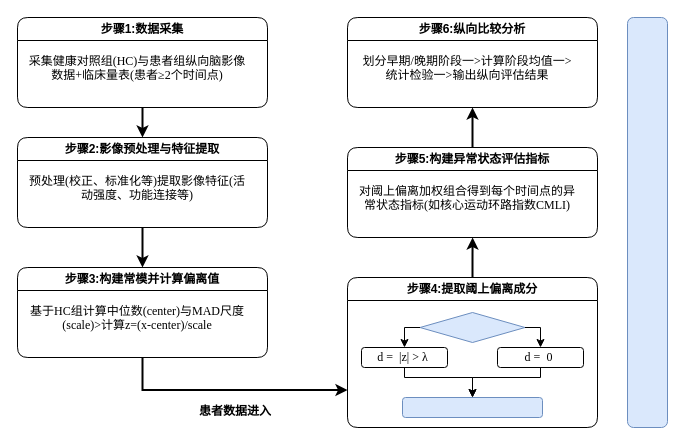
Some shapes in this 685 by 445 pixel diagram are drawn without their labels. The shapes that lost their labels are listed below. From the top down, each one's centre as x and y in pixels, then its label:
At (x=647, y=222): "创新点:区分正常波动与异常偏离，提升提升纵向评估可解释性".
At (x=472, y=327): "|z| > λ".
At (x=472, y=407): "d = max(0, |z| > λ)".
